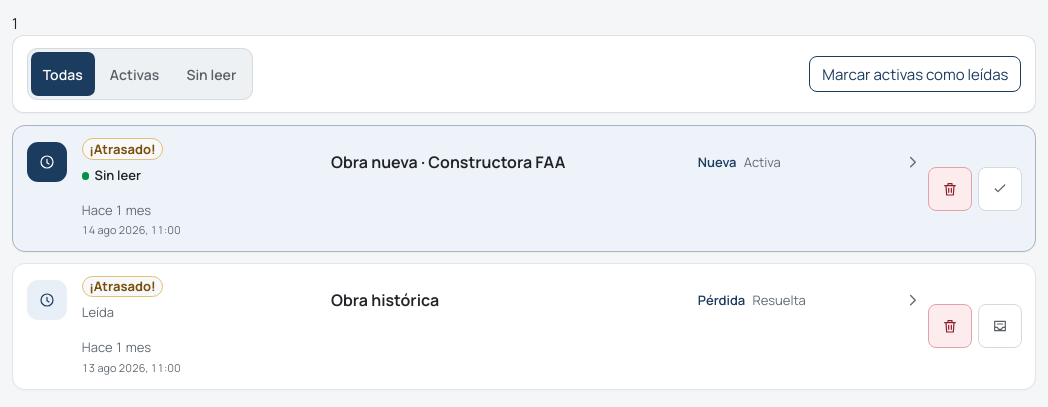
Test: NotificationsPage › changes read to unread without navigation and leaves resolved attention unchanged
Click the button named "Marcar como no leída: Obra histórica": [1000, 326] box [978, 304, 1022, 348]
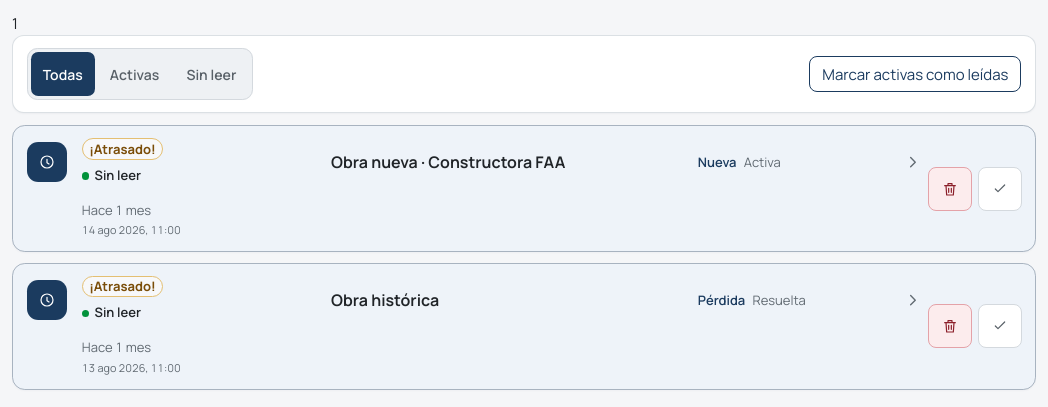
Expected: the text named "Contador sin leer" reads "1", [12, 13, 18, 34]
Expected: the button named "Marcar como leída: Obra histórica" is shown, [978, 304, 1022, 348]
